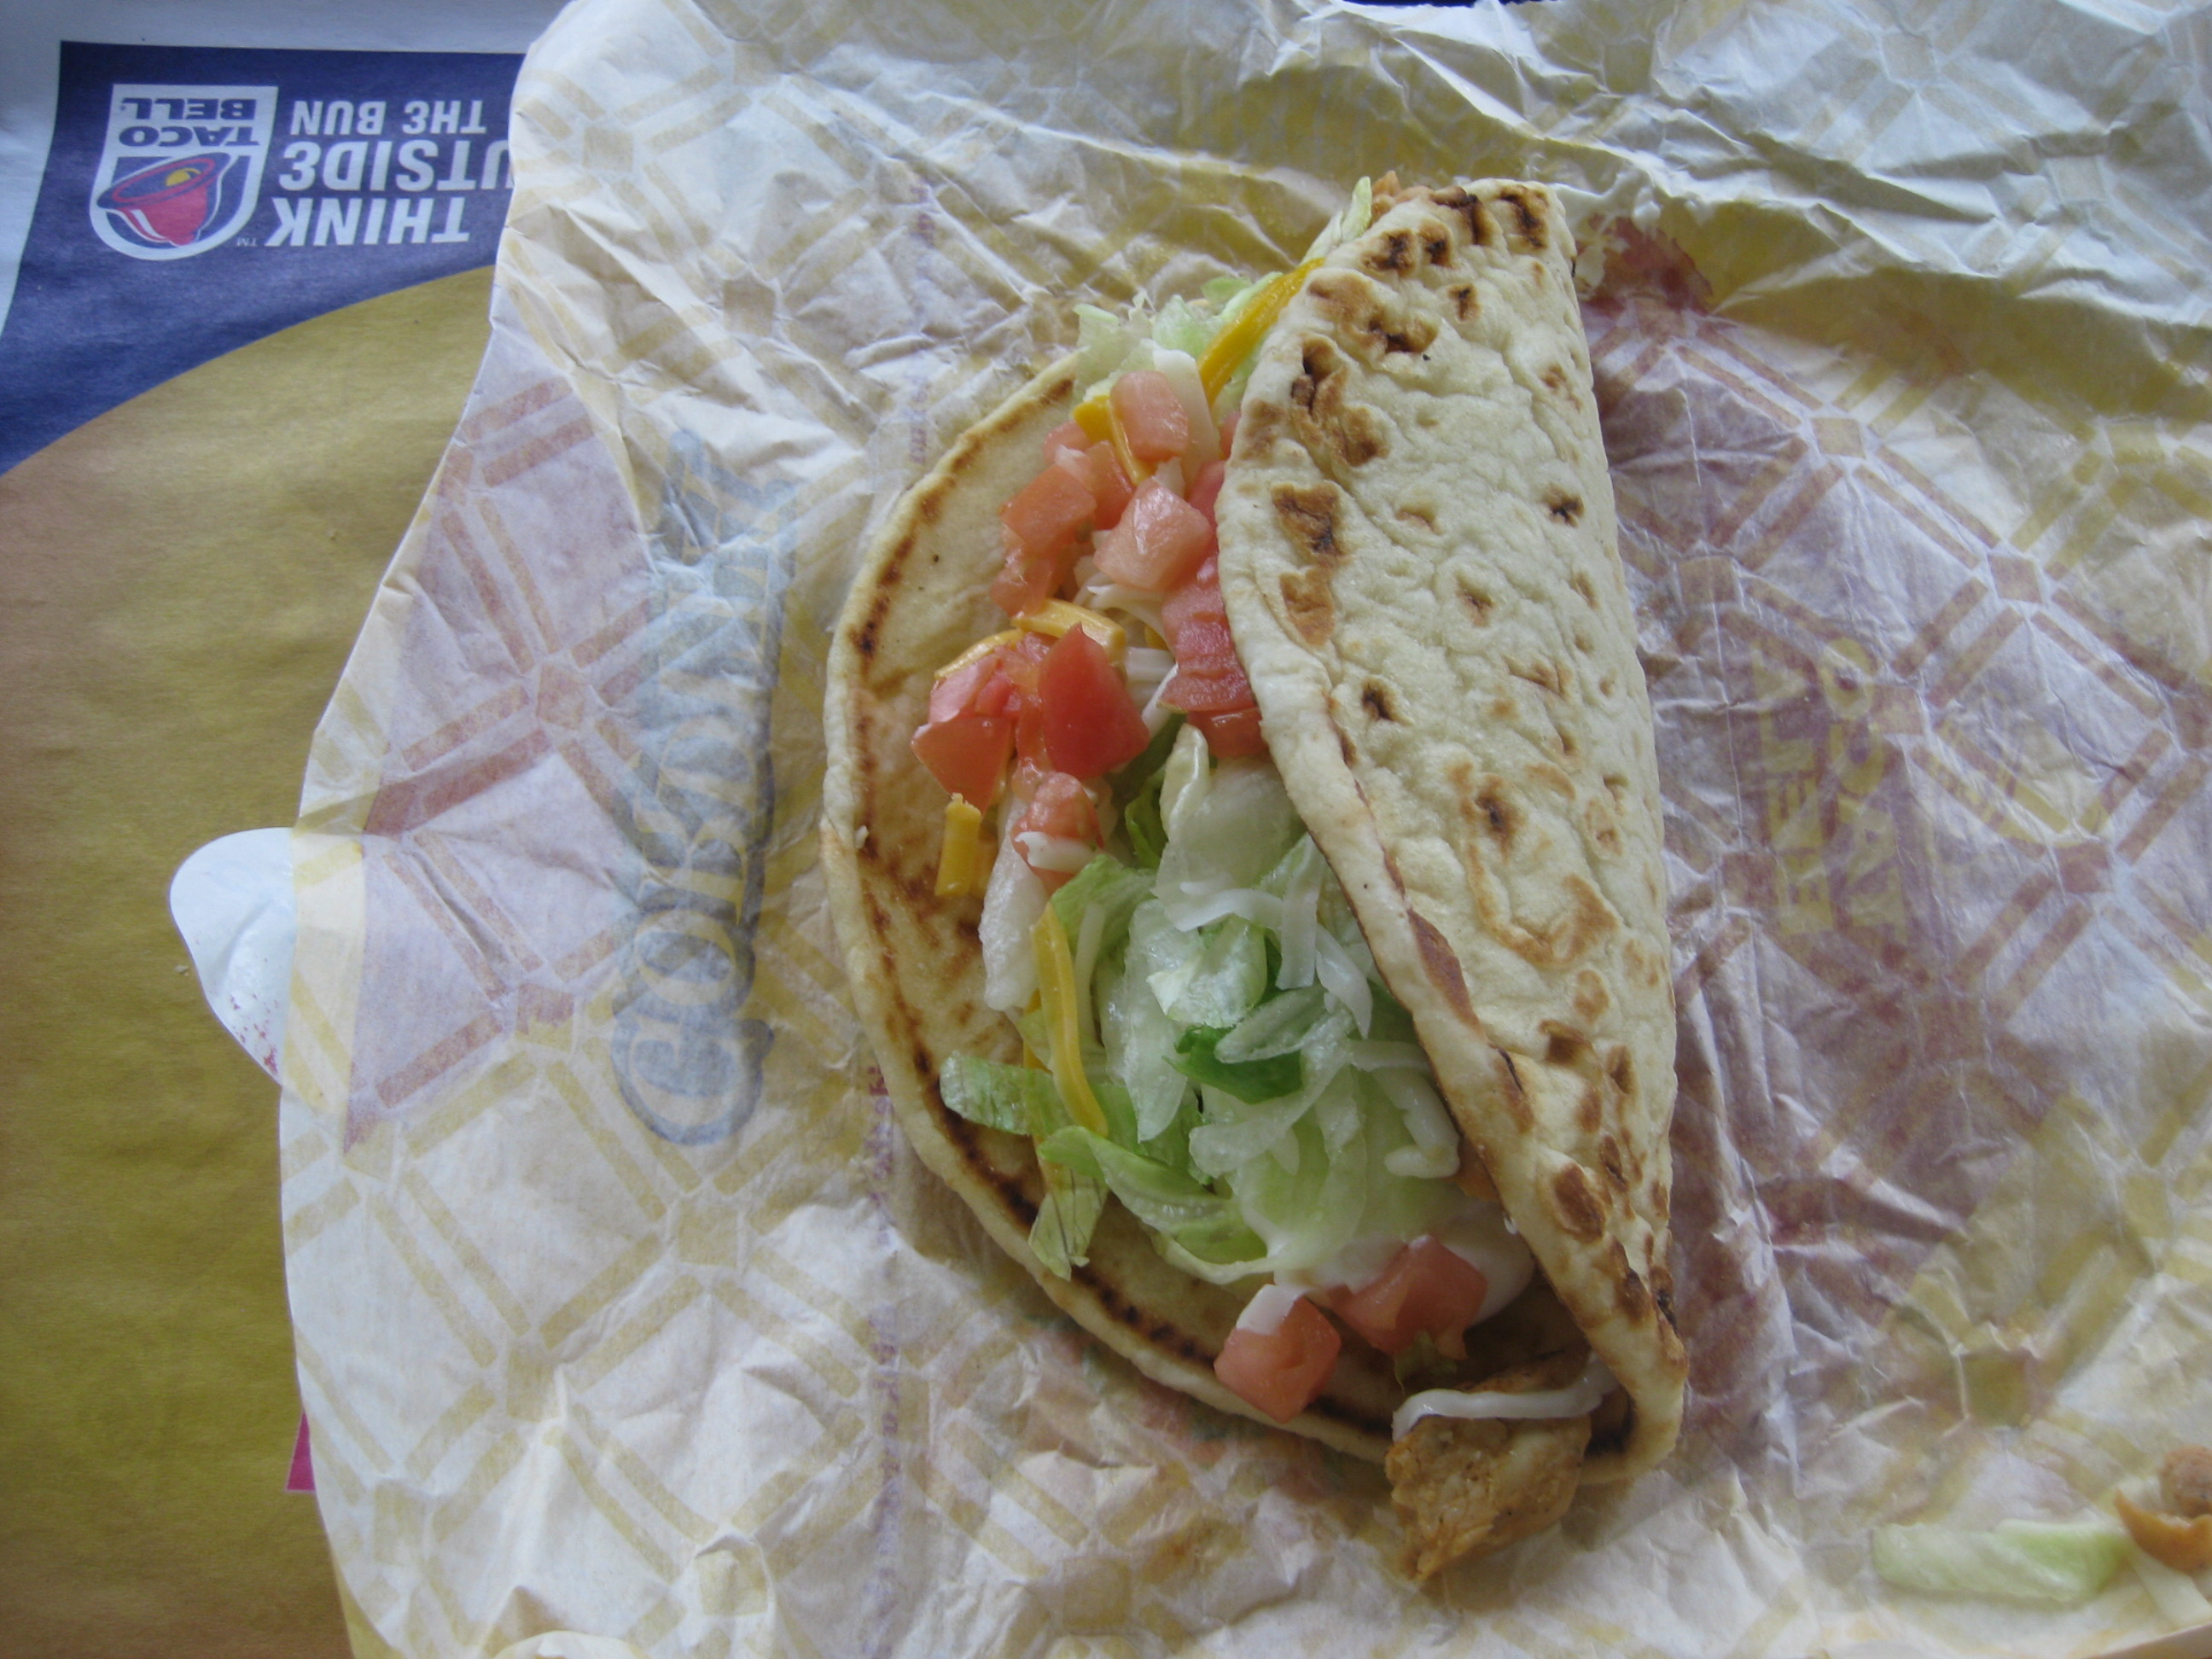taco: (818, 147, 1871, 1525)
